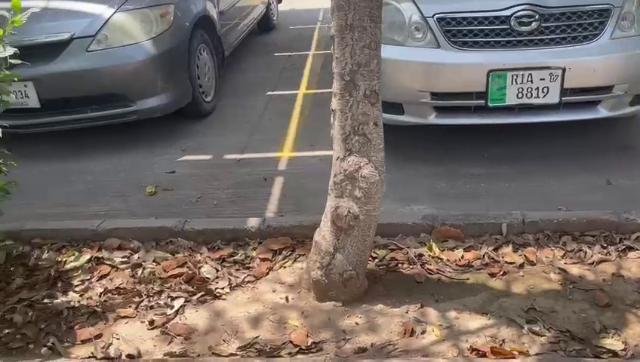plate: (485, 66, 566, 109)
